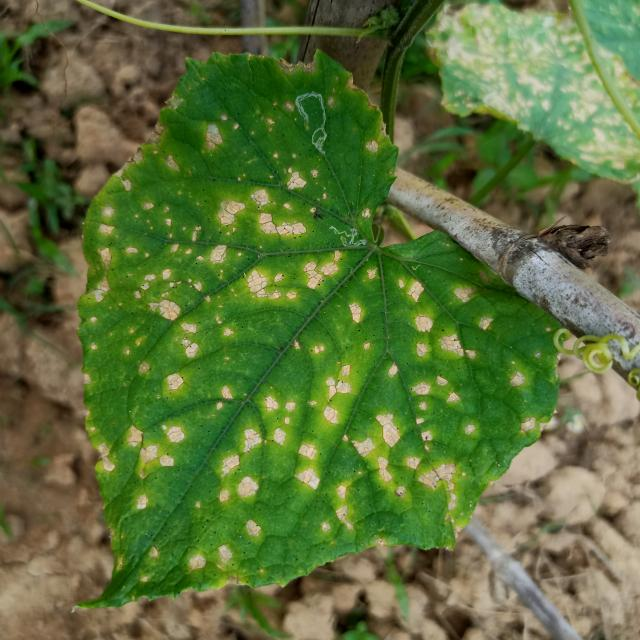disease_cucumber: (84, 71, 533, 576)
